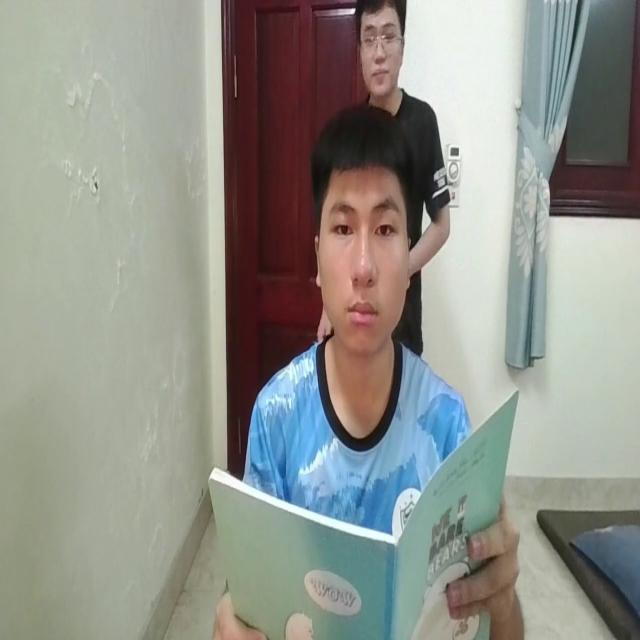book: (195, 386, 518, 640)
extra_person: (358, 2, 451, 258)
student: (246, 106, 466, 456)
